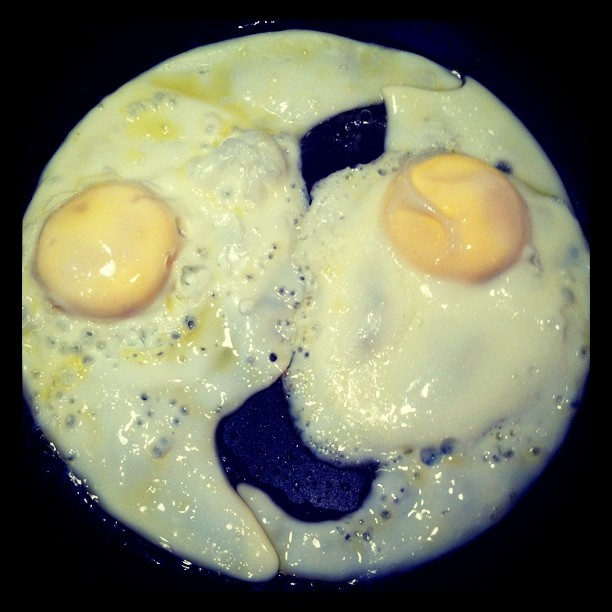fried egg: (65, 81, 531, 506)
